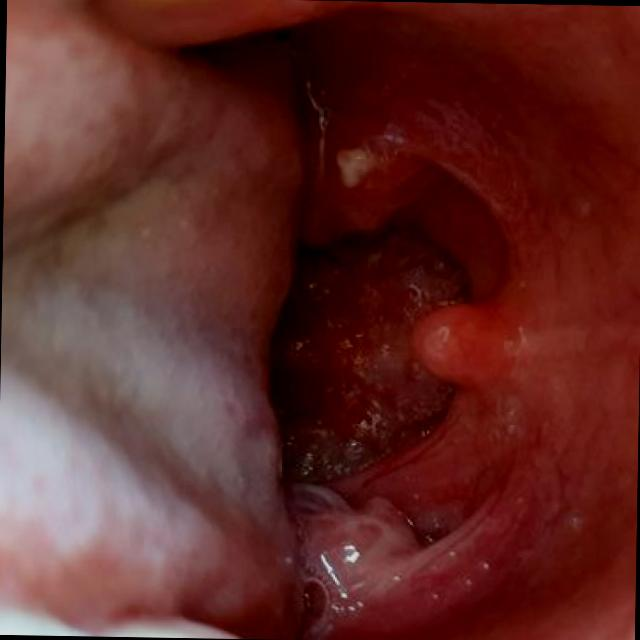pharyngitis: (280, 468, 442, 636), (300, 120, 441, 256)
